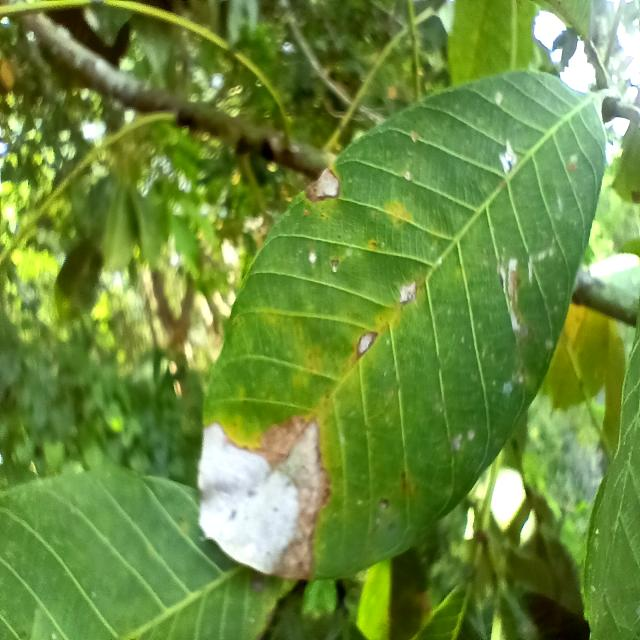Leaf-Blight: (196, 416, 330, 578), (307, 167, 340, 201), (400, 282, 416, 304), (358, 334, 372, 352)
